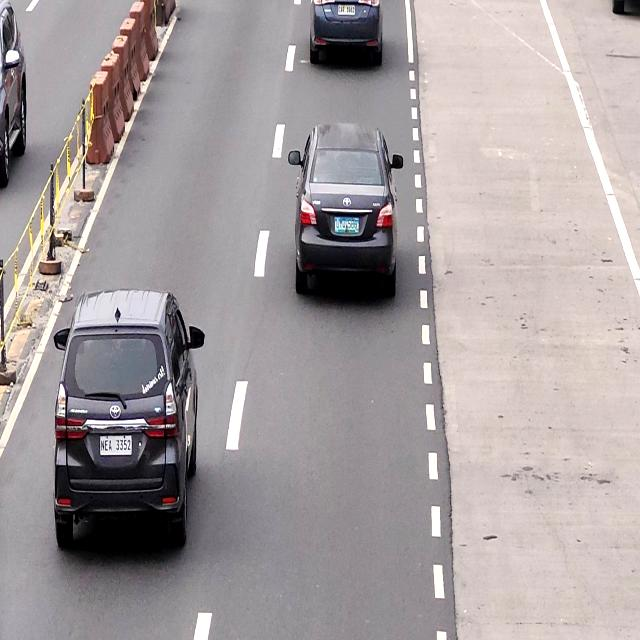Car: (55, 290, 189, 546), (294, 119, 396, 297), (310, 1, 386, 66)
License-Plate: (100, 434, 132, 460), (334, 212, 361, 235), (336, 3, 357, 17)
